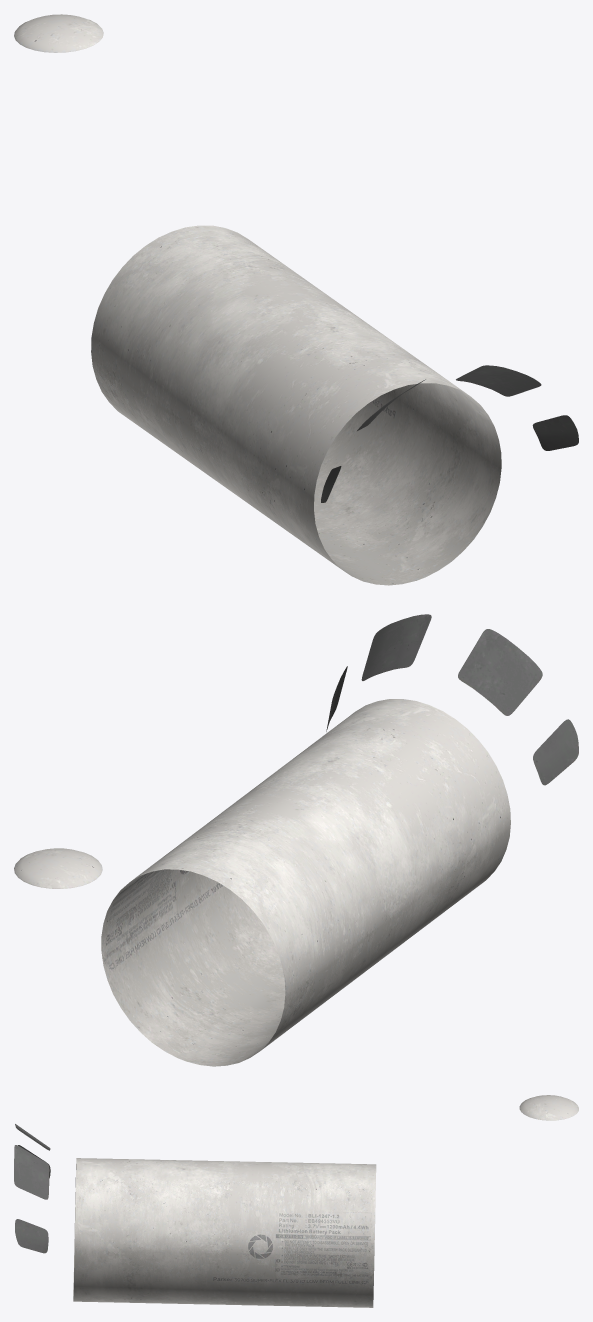
File: PortalGunTransparent.gltf
3 views of the same model, one above another, from view 1: azimuth 30°, elevation 25°; view 2: azimuth 150°, elevation 25°; view 3: azimuth 270°, elevation 25° (orthographic). The views are drawn at different scales.
Visible parts, largest first — view 1: mesh0; view 2: mesh0; view 3: mesh0.
Boxes of the visible parts, left/top/right/bottom form: mesh0: left=14, top=14, right=578, bottom=585; mesh0: left=14, top=614, right=578, bottom=1066; mesh0: left=14, top=1095, right=578, bottom=1307.
Bounding box in the file's own units: 0.1108 × 0.1284 × 0.3264.
1 material, 1 textured.
